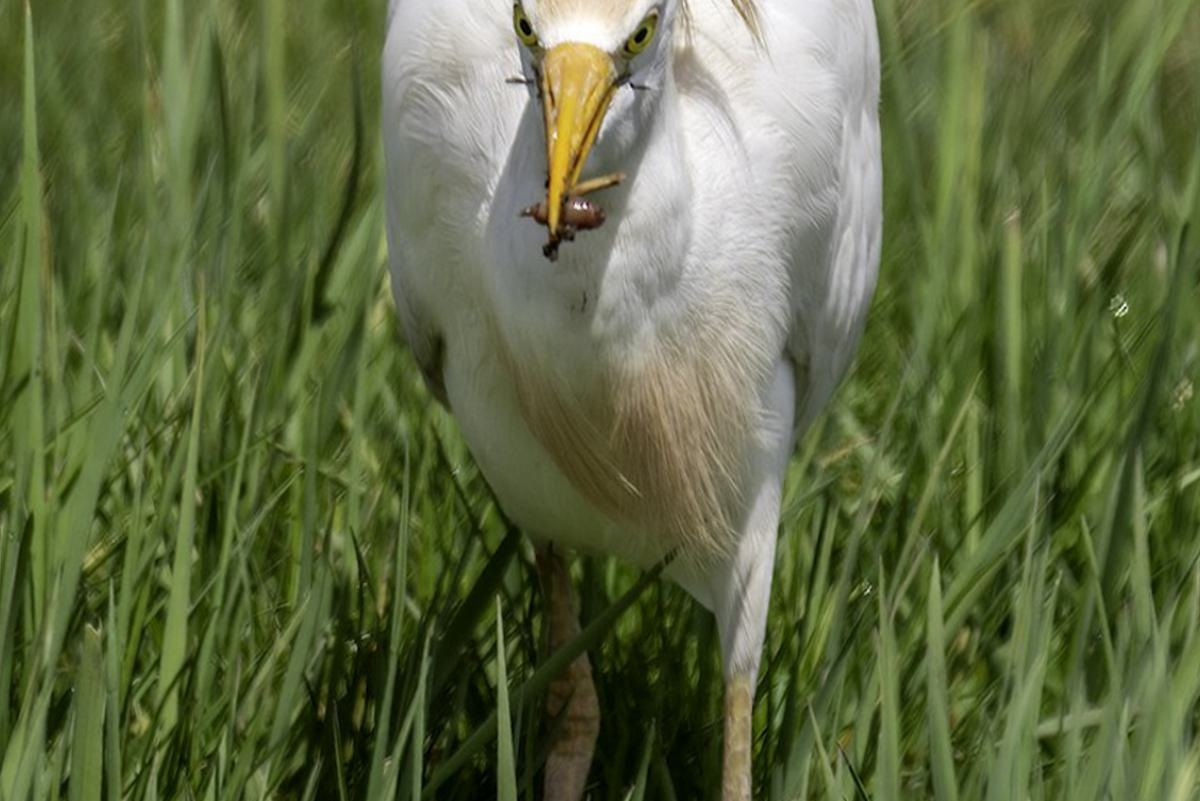egret: (356, 1, 914, 737)
